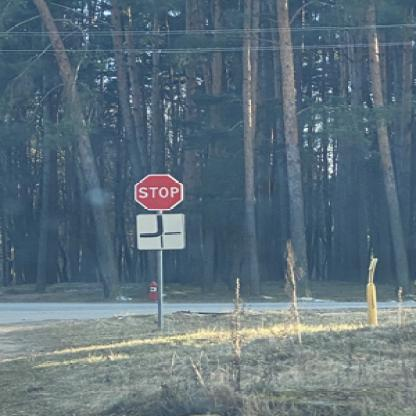stop: (132, 173, 182, 210)
